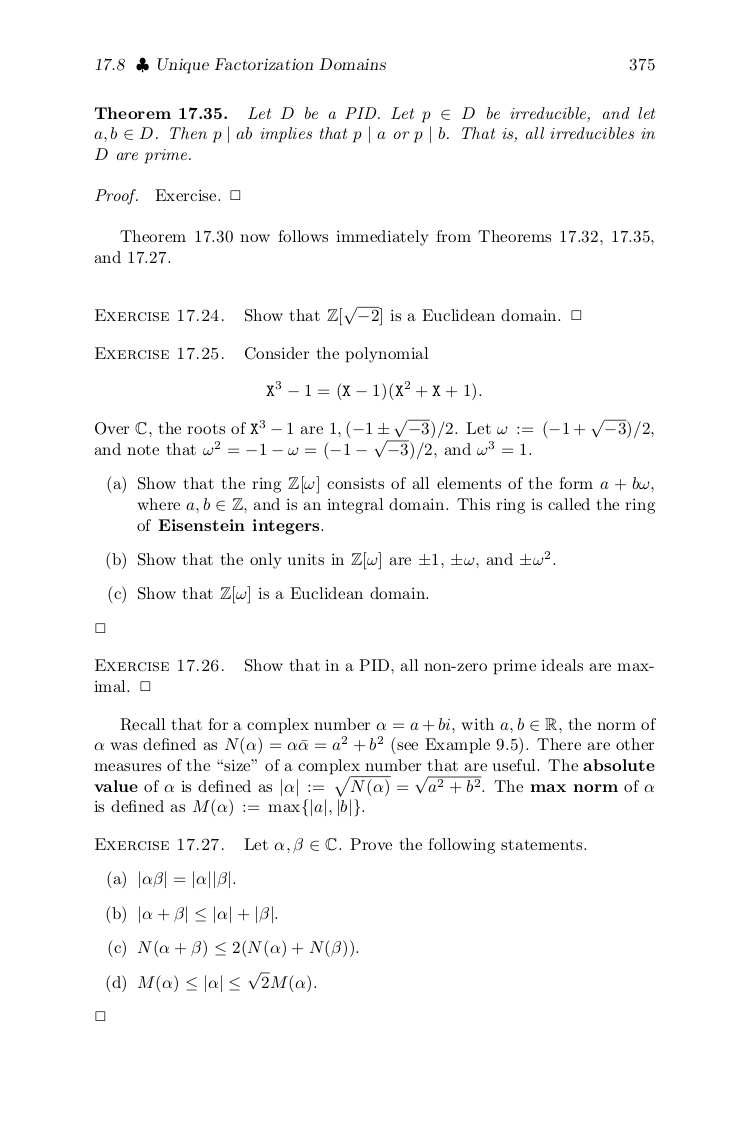formula: (108, 939, 358, 958), (106, 971, 316, 993), (266, 380, 481, 401), (106, 905, 277, 924), (107, 870, 235, 889)
